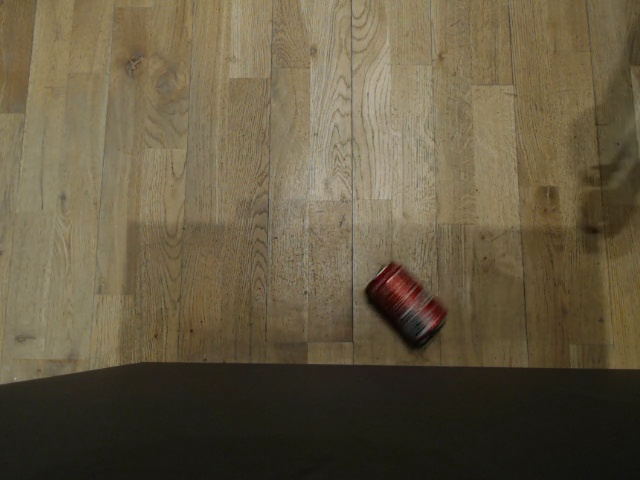coke: (361, 260, 449, 347)
